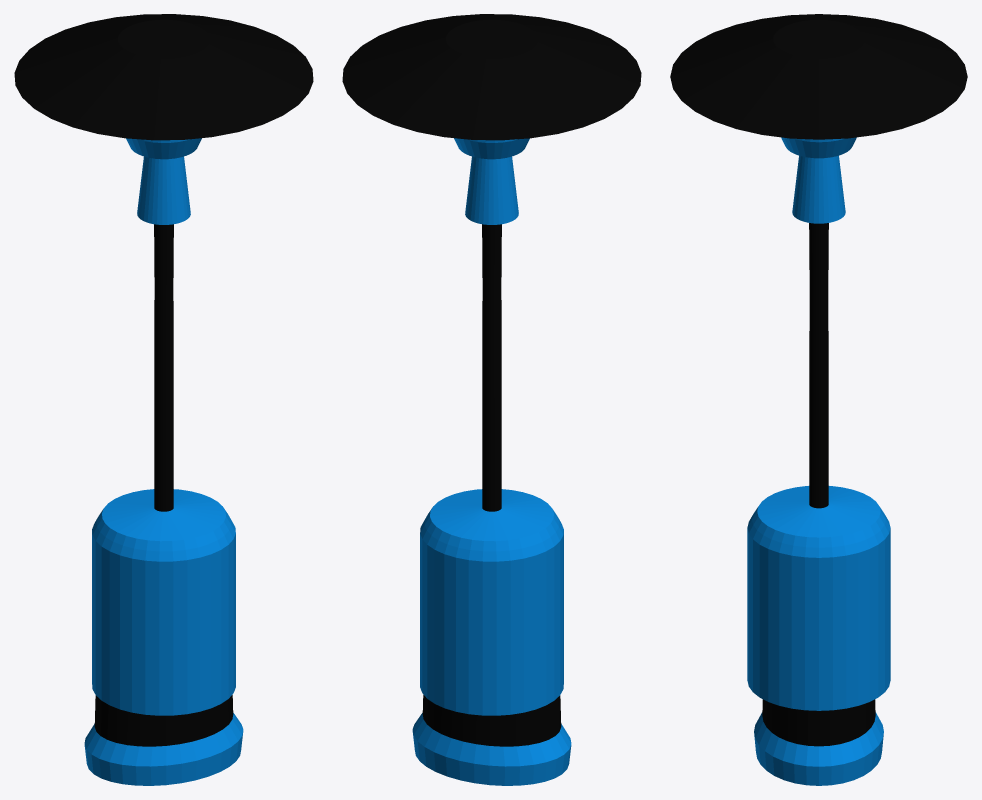
The model's file is Lamb.fbx.
3 views of the same model, side by side, from view 1: azimuth 30°, elevation 25°; view 2: azimuth 150°, elevation 25°; view 3: azimuth 270°, elevation 25° (orthographic).
Visible parts, largest first — view 1: Dorduncu.002; view 2: Dorduncu.002; view 3: Dorduncu.002.
Boxes of the visible parts, bbox=[...] form: Dorduncu.002: bbox=[14, 14, 313, 785]; Dorduncu.002: bbox=[342, 14, 641, 785]; Dorduncu.002: bbox=[670, 14, 967, 785].
Bounding box in the file's own units: 185 × 496 × 185.
